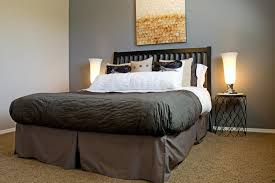bed-matress: (10, 85, 213, 137)
